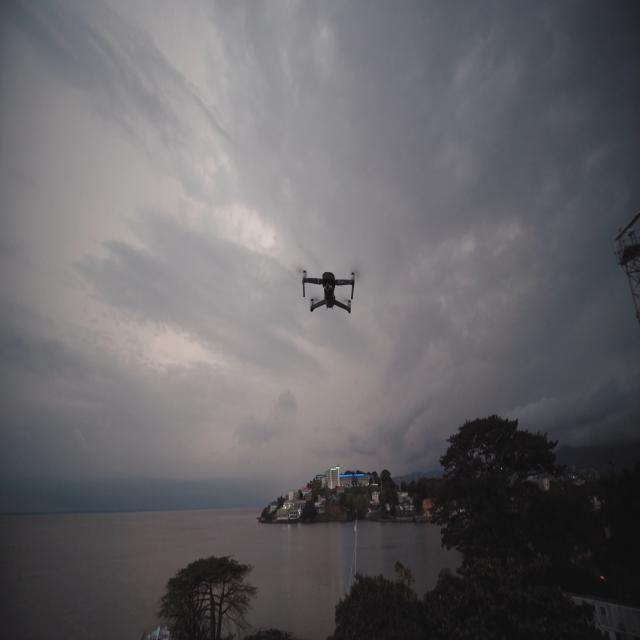drone: (301, 269, 355, 314)
